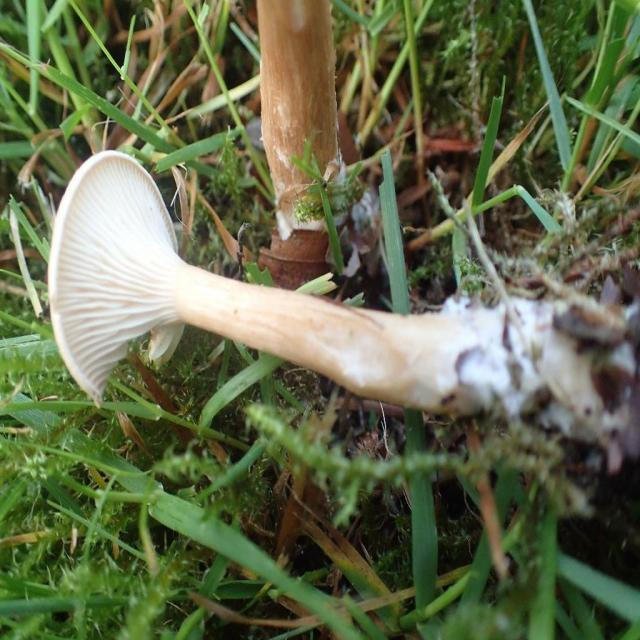Clitocybe maxima: (48, 152, 635, 442)
